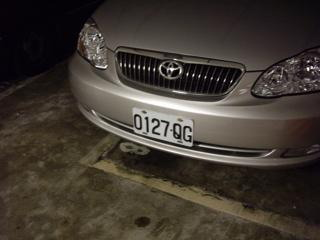plate: (130, 104, 196, 149)
